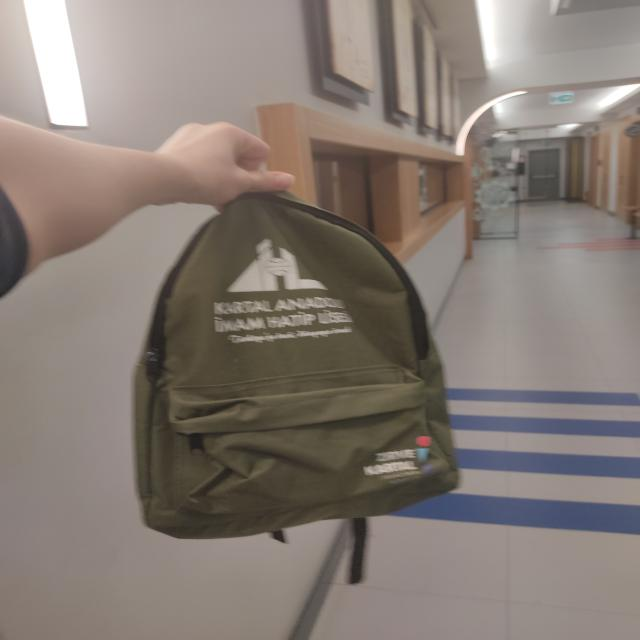bag: (132, 193, 460, 541)
